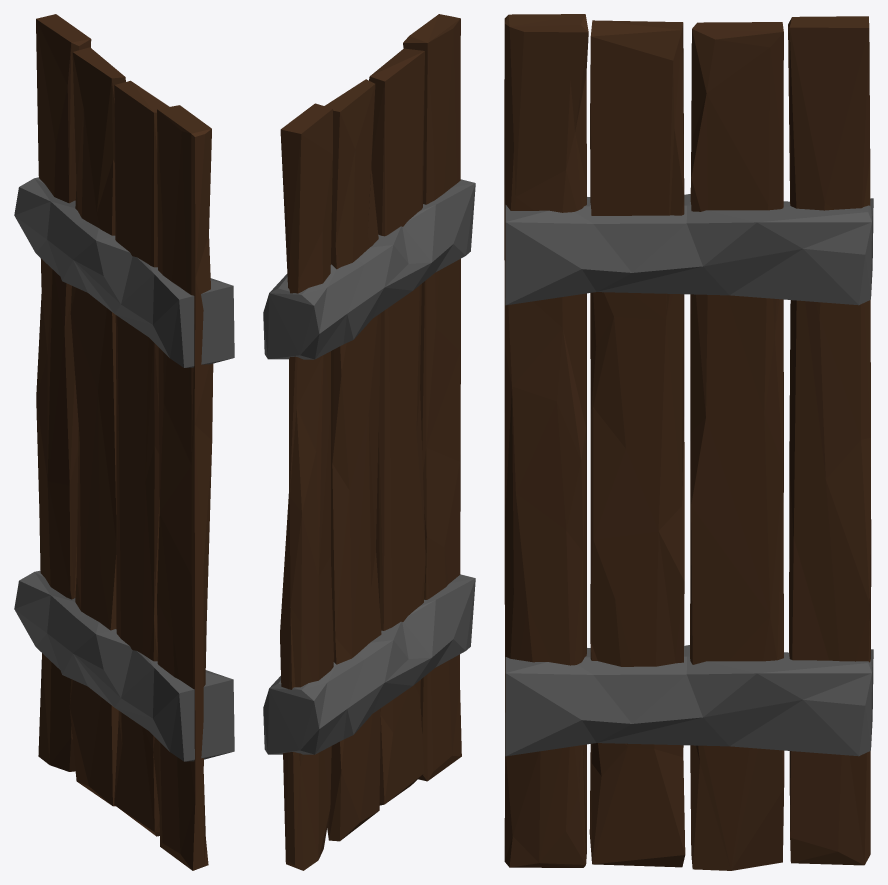
File: Wooden Door.fbx
The picture shows the model from 3 angles, left to right: view 1: azimuth 30°, elevation 25°; view 2: azimuth 150°, elevation 25°; view 3: azimuth 270°, elevation 25°; orthographic projection. The views are drawn at different scales.
Parts seen in each view (by area): view 1: Frame01.001, Frame01.002, Frame01.021, Frame01.022, Frame01.023, Frame01.024; view 2: Frame01.022, Frame01.021, Frame01.002, Frame01.001, Frame01.024, Frame01.023; view 3: Frame01.002, Frame01.021, Frame01.001, Frame01.022, Frame01.023, Frame01.024.
Part boxes in pixels (<box>): Frame01.001: <box>157,105,213,870</box>; Frame01.002: <box>114,80,169,836</box>; Frame01.021: <box>69,47,125,806</box>; Frame01.022: <box>36,14,91,771</box>; Frame01.023: <box>14,570,234,761</box>; Frame01.024: <box>14,177,234,367</box>; Frame01.022: <box>280,103,333,870</box>; Frame01.021: <box>325,79,381,841</box>; Frame01.002: <box>369,48,425,805</box>; Frame01.001: <box>403,14,461,781</box>; Frame01.024: <box>263,179,475,359</box>; Frame01.023: <box>263,574,475,754</box>; Frame01.002: <box>589,20,685,867</box>; Frame01.021: <box>690,22,784,870</box>; Frame01.001: <box>504,14,588,867</box>; Frame01.022: <box>788,16,871,865</box>; Frame01.023: <box>505,645,873,756</box>; Frame01.024: <box>505,194,873,305</box>.
Size of the model in its own units: 51.28 by 568 by 225.
